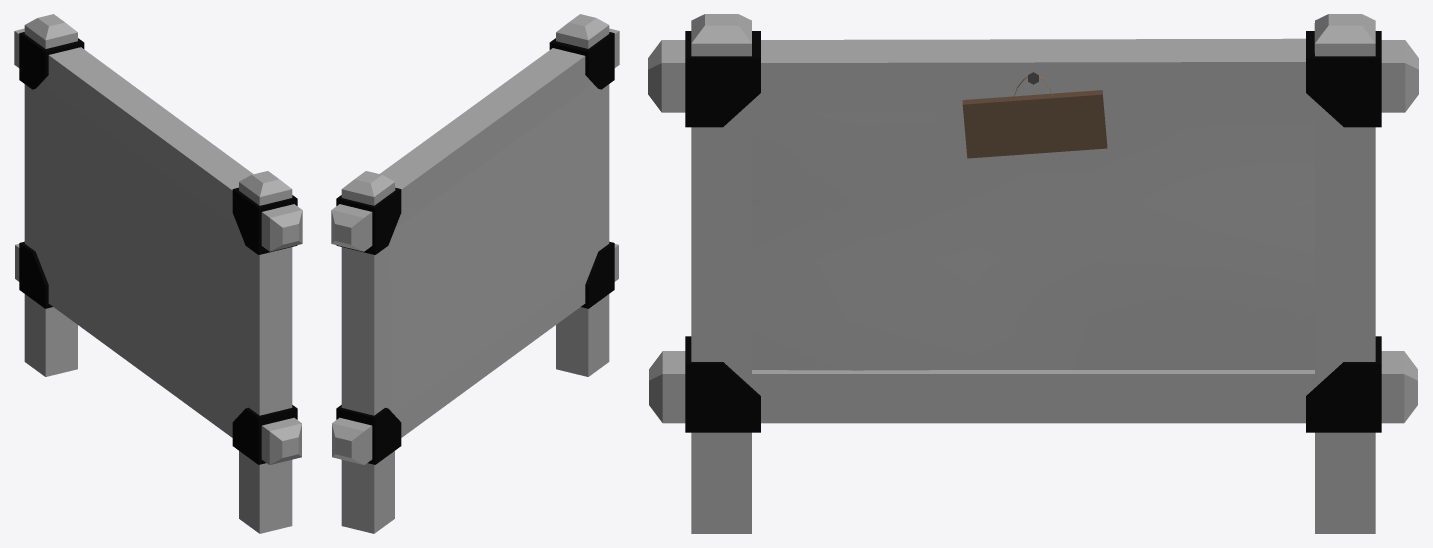
The model's file is QuestBoard.fbx.
3 renders of one model, left to right at view 1: azimuth 30°, elevation 25°; view 2: azimuth 150°, elevation 25°; view 3: azimuth 270°, elevation 25°, orthographic. The views are drawn at different scales.
Visible parts, largest first — view 1: BoardRoadKill, Hinge3, Hinge2, Hinge1, Hinge4; view 2: BoardRoadKill, Hinge4, Hinge1, Hinge2, Hinge3; view 3: Mat, BoardRoadKill, Sign, Hinge2, Hinge1, Hinge3, Hinge4.
Part boxes in pixels (<box>): BoardRoadKill: <box>14,14,302,533</box>; Hinge3: <box>232,405,297,464</box>; Hinge2: <box>232,187,297,254</box>; Hinge1: <box>19,32,84,89</box>; Hinge4: <box>19,241,52,308</box>; BoardRoadKill: <box>331,14,619,533</box>; Hinge4: <box>336,405,401,464</box>; Hinge1: <box>336,187,401,254</box>; Hinge2: <box>549,32,614,89</box>; Hinge3: <box>581,241,614,308</box>; Mat: <box>752,112,1314,370</box>; BoardRoadKill: <box>648,14,1418,533</box>; Sign: <box>962,90,1107,158</box>; Hinge2: <box>685,31,760,127</box>; Hinge1: <box>1306,31,1381,127</box>; Hinge3: <box>685,336,760,432</box>; Hinge4: <box>1306,336,1381,432</box>.
Bounding box in the file's own units: 0.4812 × 3.74 × 5.2.
